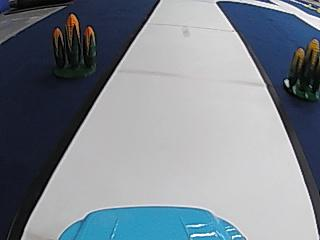corn: (46, 8, 101, 79), (281, 39, 319, 99)
